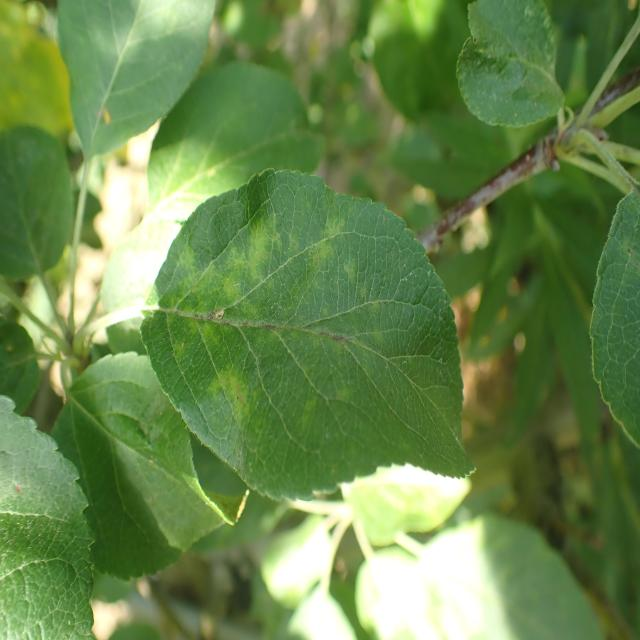scab: (154, 204, 436, 465)
